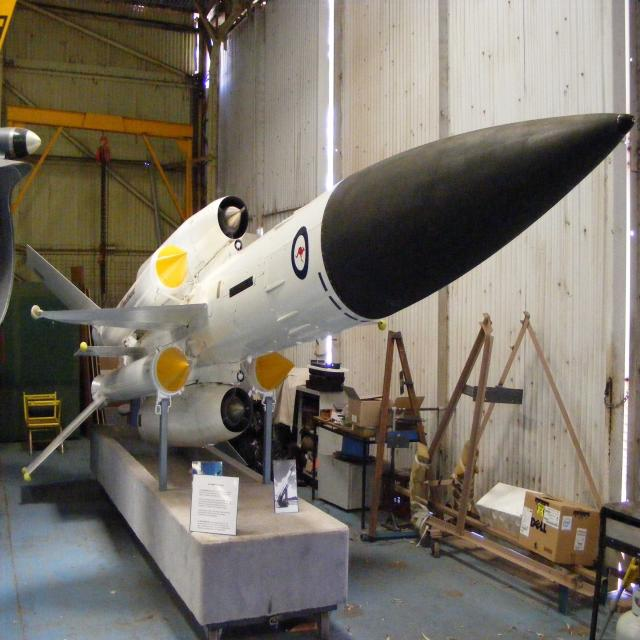missile: (24, 108, 632, 510)
